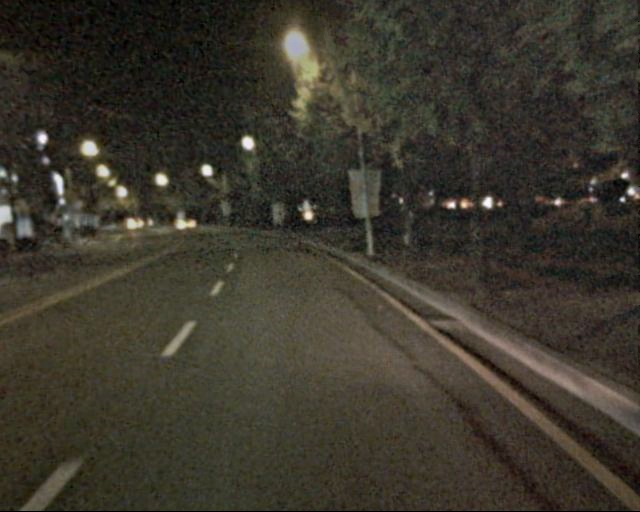person: (396, 206, 423, 257)
